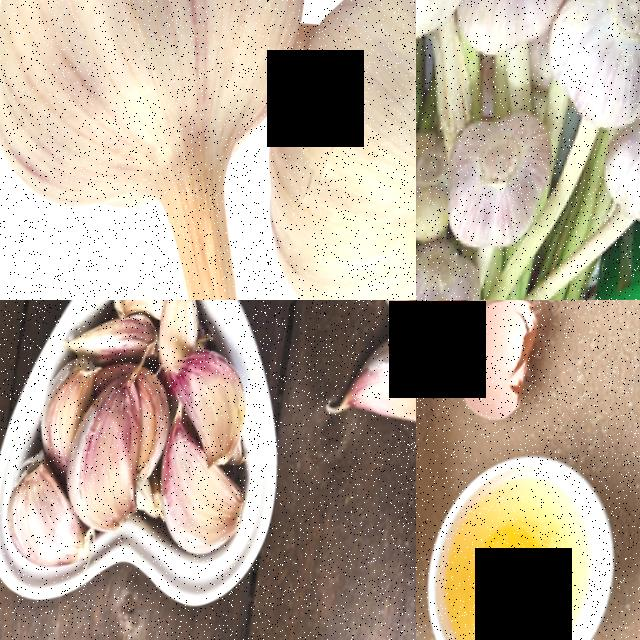egg_: (481, 513, 562, 617)
garlic: (0, 0, 329, 232), (258, 0, 416, 300), (447, 106, 560, 246), (70, 381, 160, 527), (161, 443, 262, 554), (551, 0, 640, 124), (169, 343, 259, 462), (11, 458, 85, 572), (349, 327, 416, 426), (460, 0, 573, 57), (44, 344, 102, 453), (601, 107, 640, 227), (416, 241, 490, 300)
